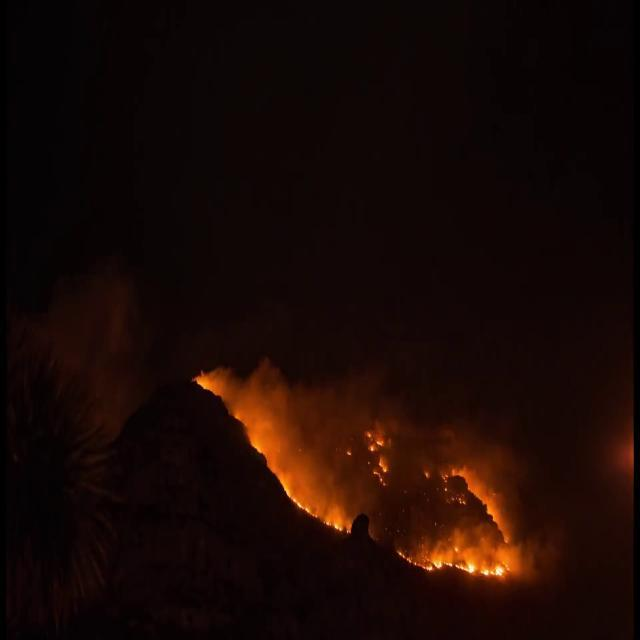Fire: (422, 561, 512, 575), (270, 462, 300, 502), (326, 508, 356, 538), (242, 418, 262, 452), (197, 376, 211, 396)
